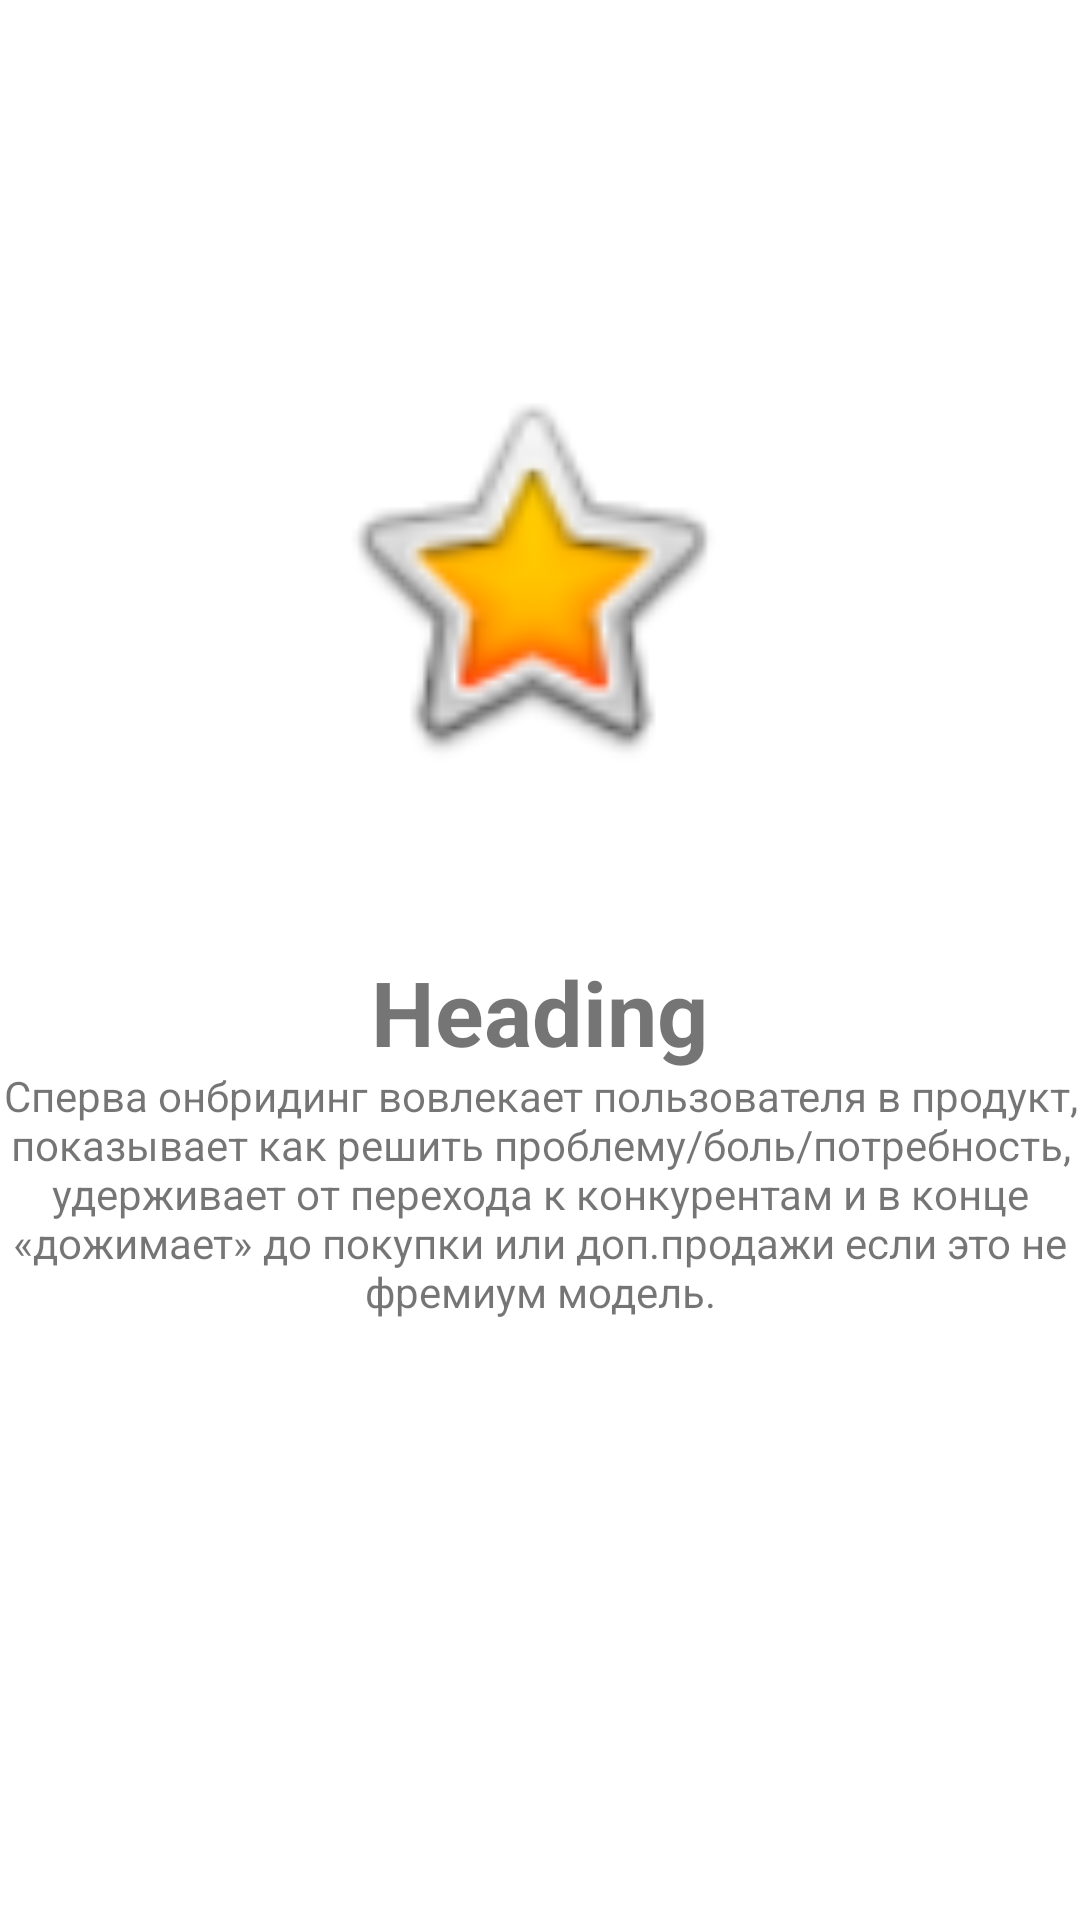

Icons on this 1080x1920 Android screen, each with its box as box=[x1, y1, x2, y2]:
star on: box=[359, 408, 707, 748]
